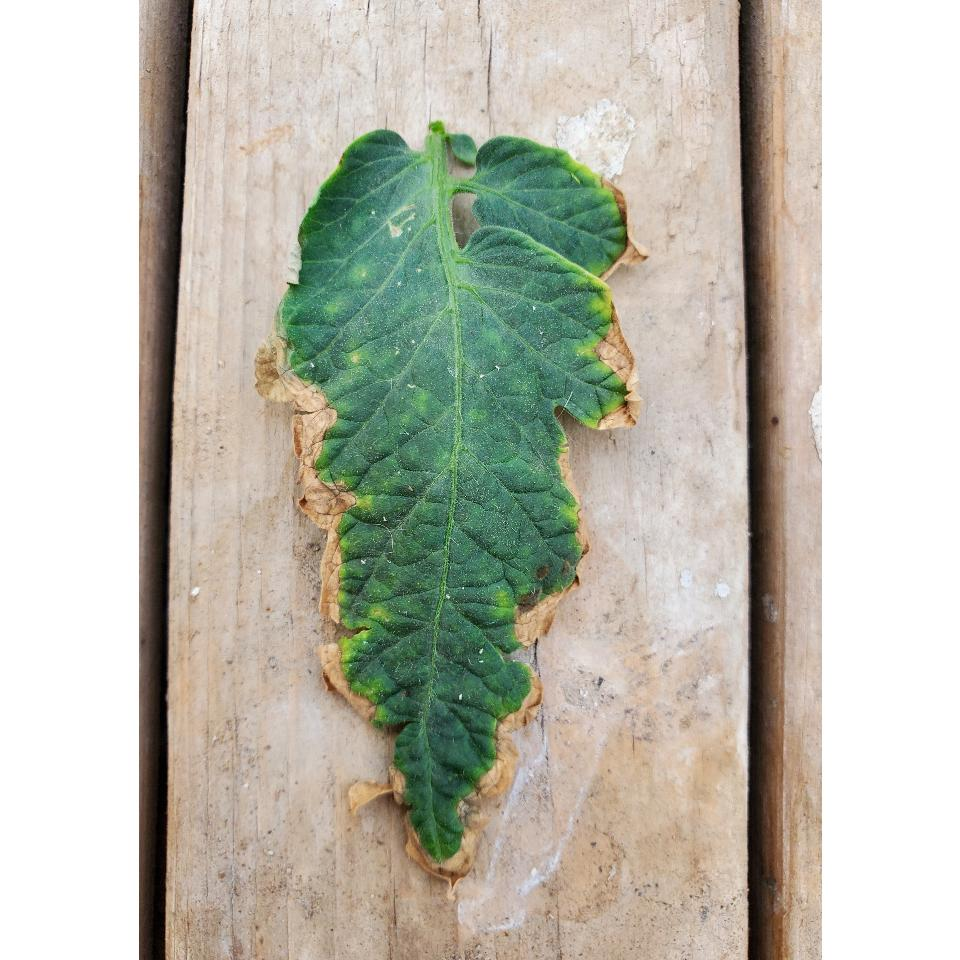tomato_bacterial_blight: (257, 113, 648, 874)
